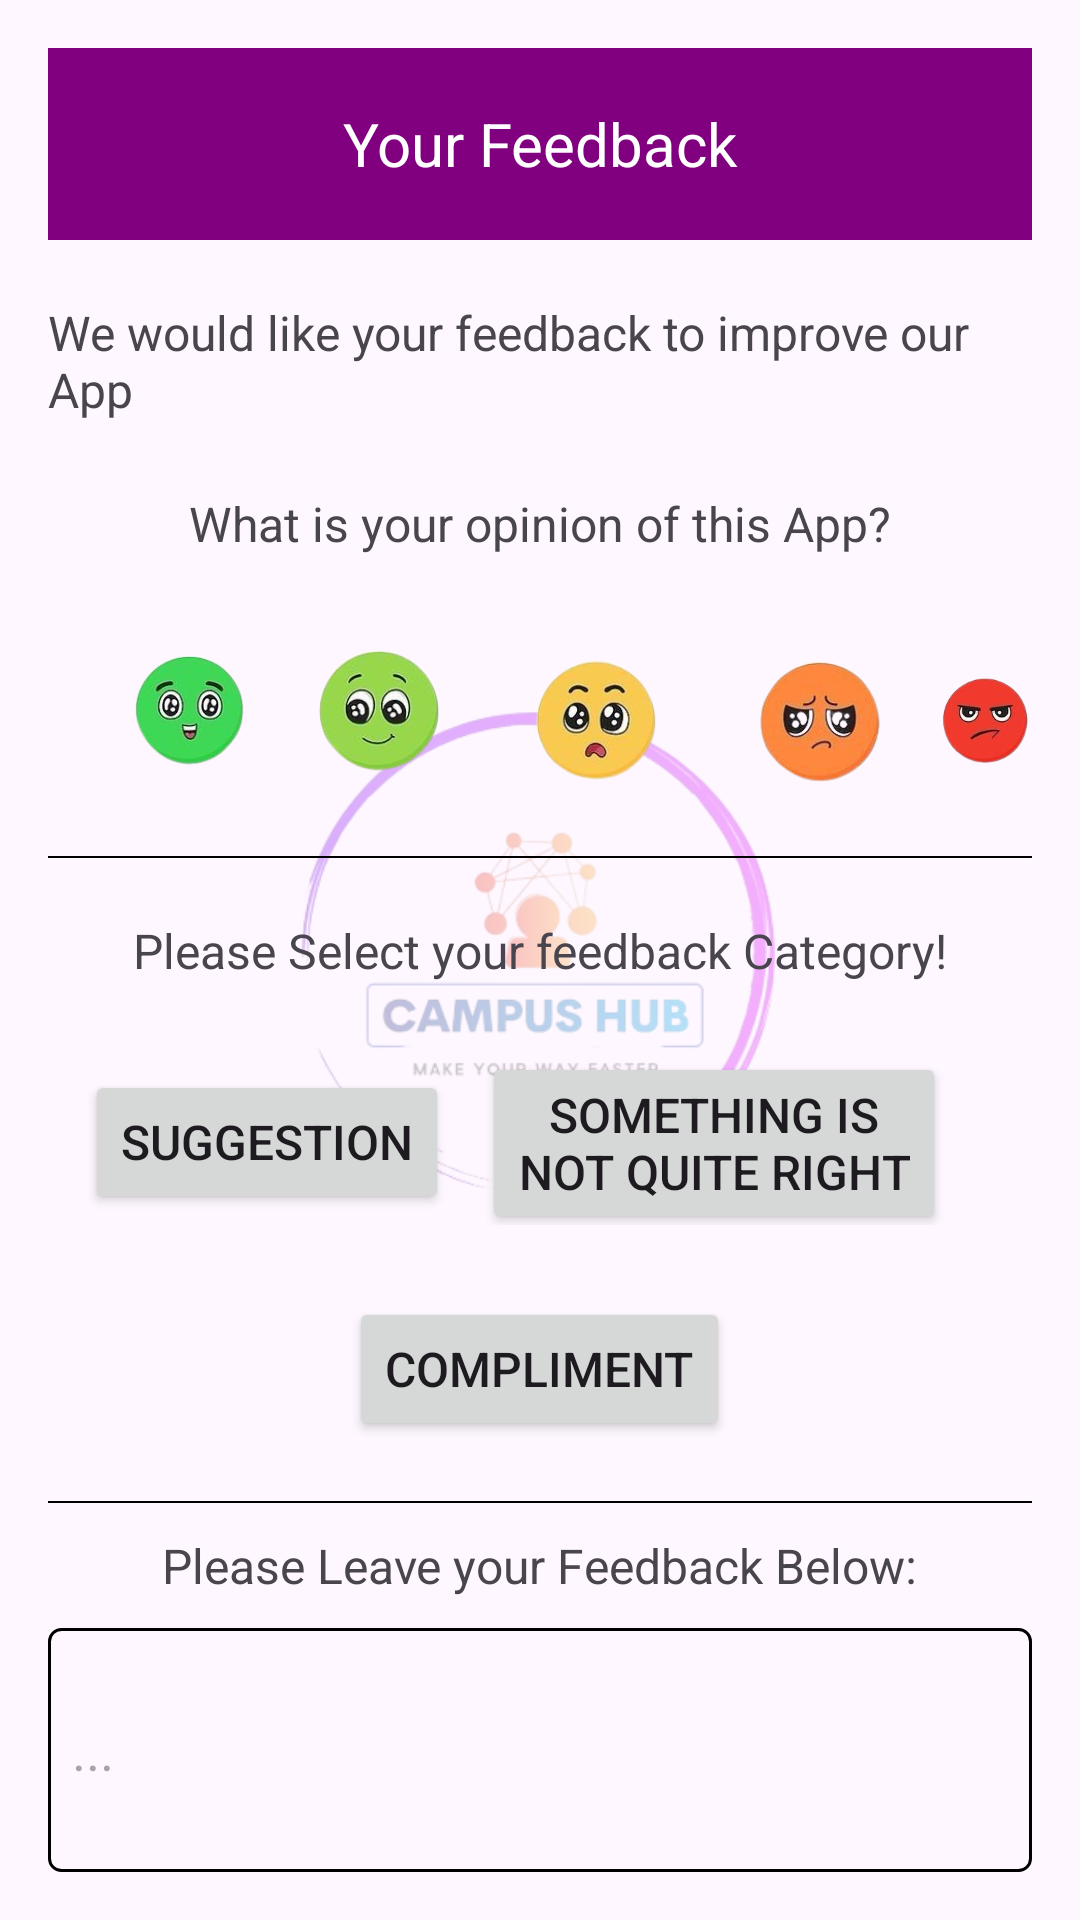

Icons on this 1080 x 1920 Android screen, each with the point to tap as (x,y):
bad: (985,720)
excellent: (189,710)
good: (401,723)
poor: (820,721)
